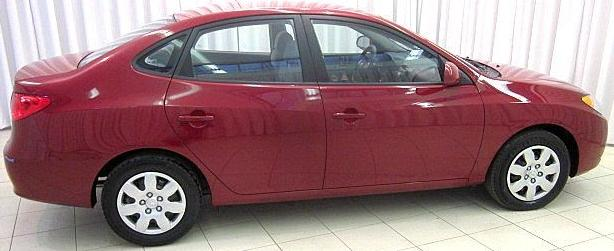backlight: (5, 90, 56, 124)
side_glass: (134, 15, 473, 93)
